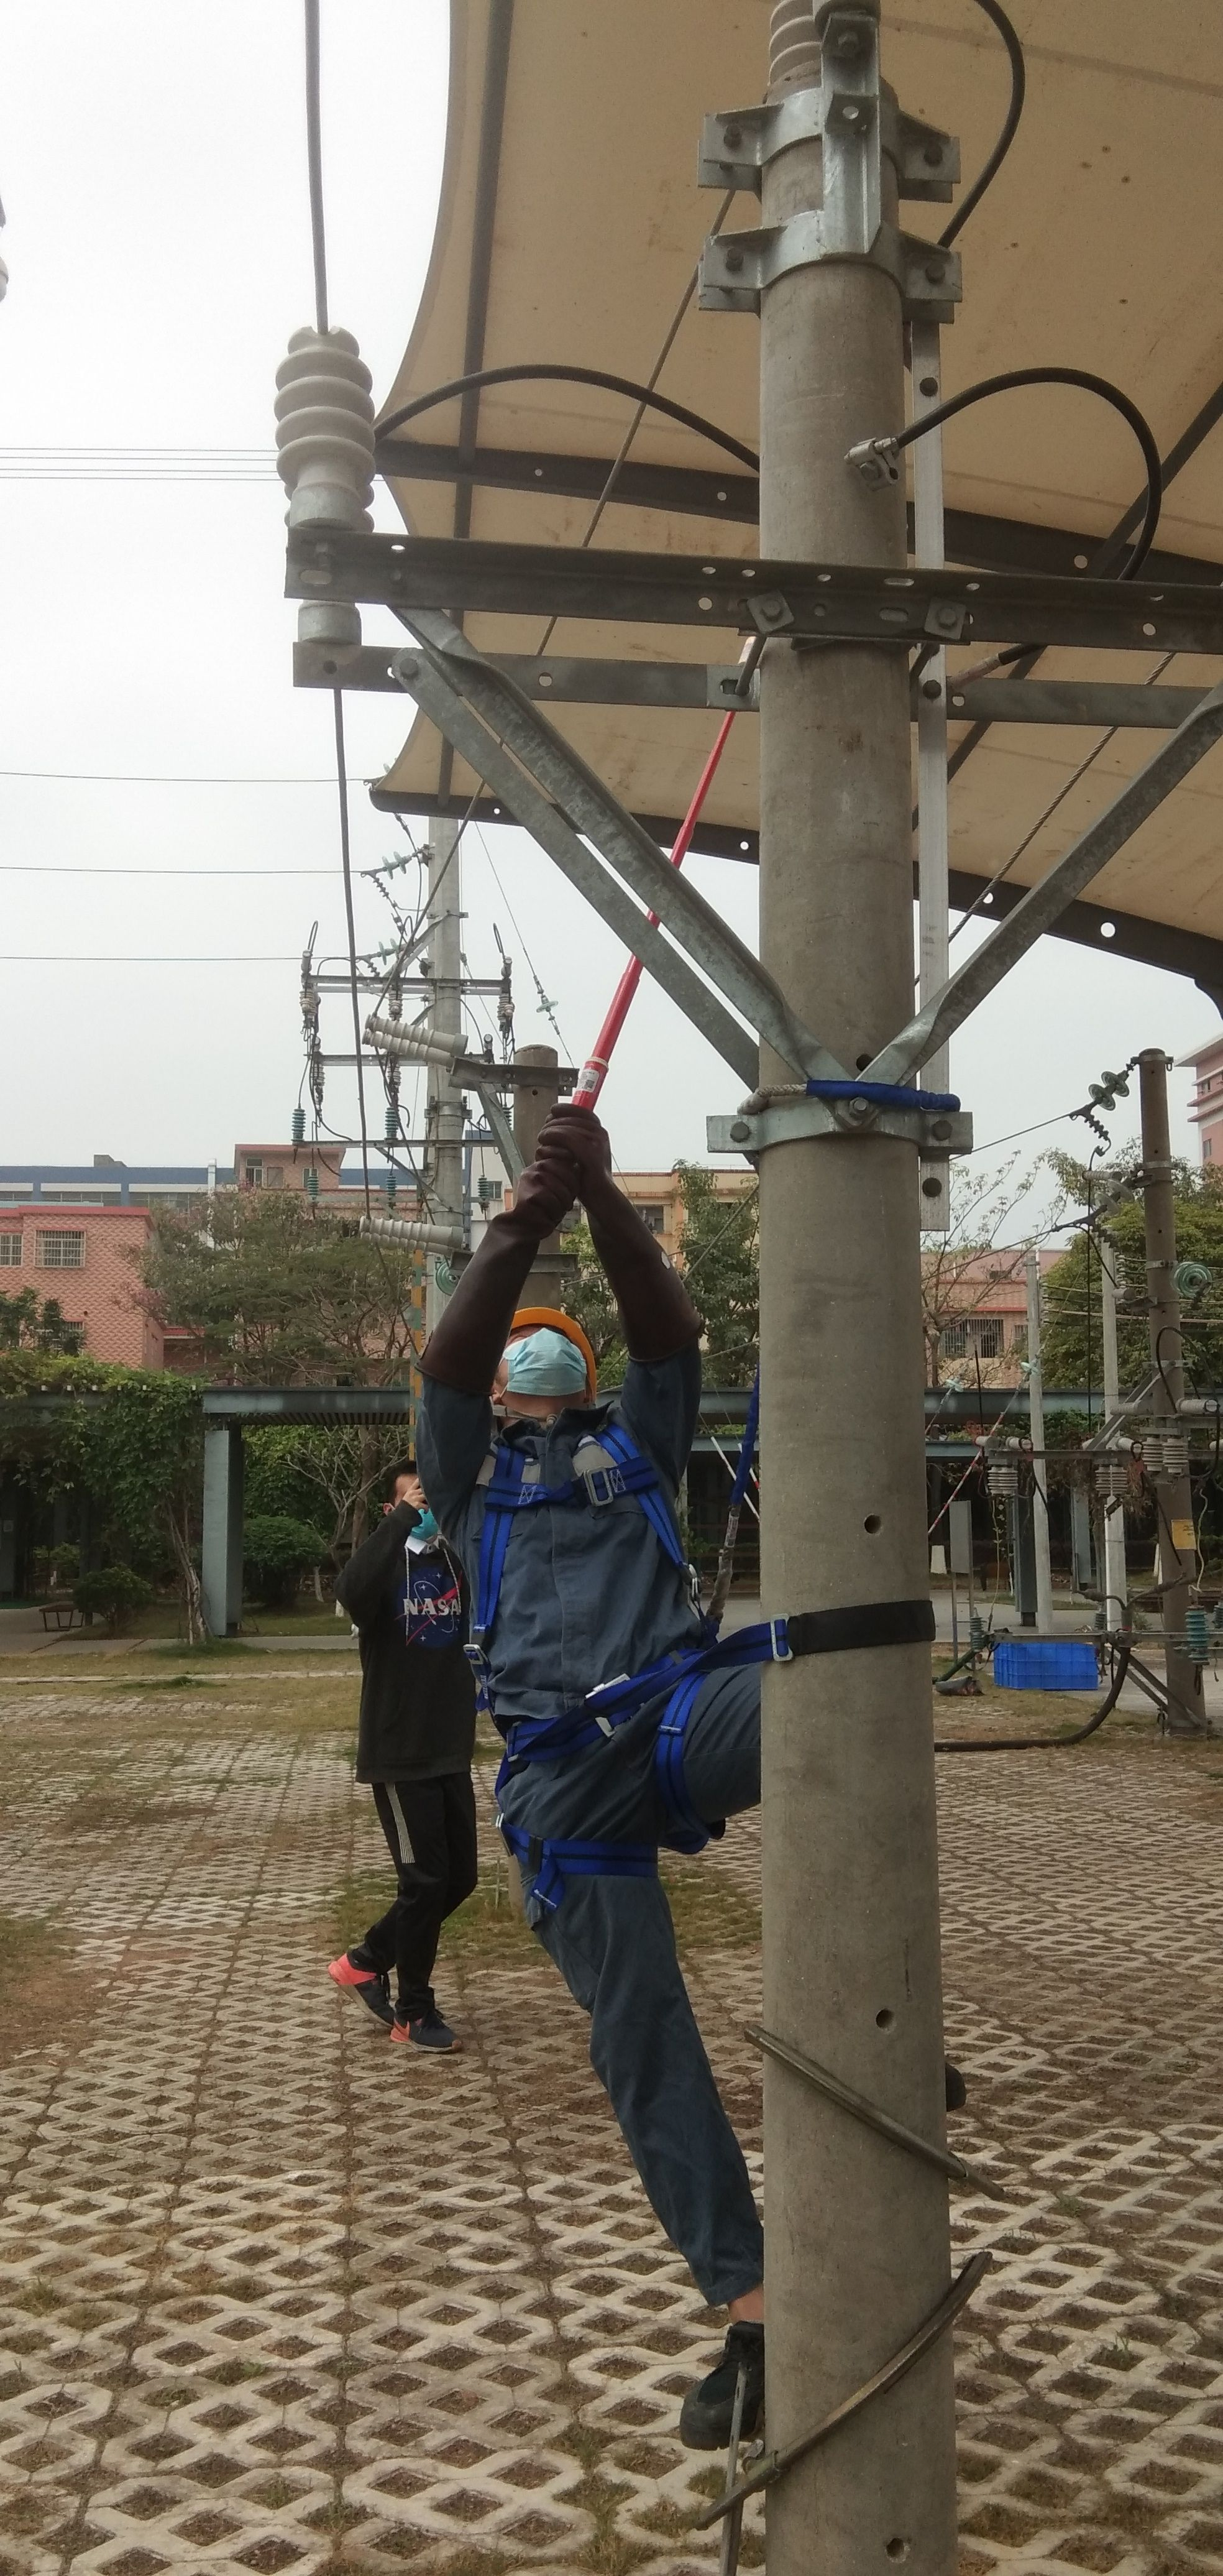downcloth: (351, 1782, 478, 1993)
downsuit: (511, 1700, 768, 2295)
upcloth: (343, 1531, 483, 1774)
upsuit: (399, 1360, 708, 1699)
